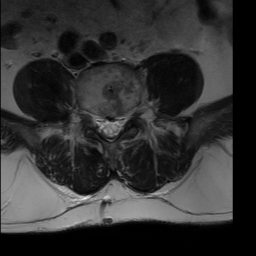CCS_normal: (104, 108, 114, 146)
LFS_normal: (124, 103, 134, 126)
LLS_normal: (115, 109, 124, 138)
RFS_normal: (85, 104, 96, 128)
RLS_normal: (96, 108, 105, 140)
